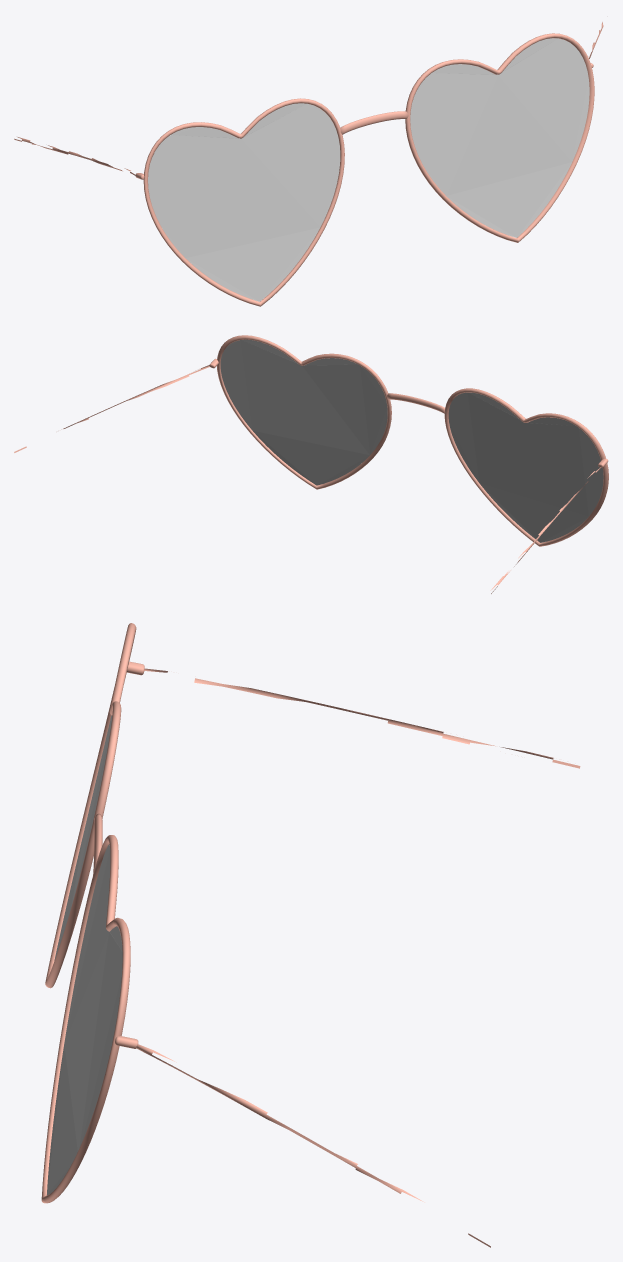
The model's file is heart-shaped_glasses14.glb.
The picture shows the model from 3 angles, top to bottom: view 1: azimuth 30°, elevation 25°; view 2: azimuth 150°, elevation 25°; view 3: azimuth 270°, elevation 25°; orthographic projection. The views are drawn at different scales.
Visible parts, largest first — view 1: Circle.002_3, Glasses_Frame; view 2: Circle.002_3, Glasses_Frame, Temple.R; view 3: Circle.002_3, Glasses_Frame, Temple.L, Temple.R.
Boxes of the visible parts, x1,y1,x2,y2 form: Circle.002_3: [148, 38, 589, 301]; Glasses_Frame: [143, 33, 594, 306]; Circle.002_3: [220, 339, 603, 542]; Glasses_Frame: [217, 335, 608, 546]; Temple.R: [14, 365, 209, 452]; Circle.002_3: [47, 715, 122, 1195]; Glasses_Frame: [41, 623, 136, 1203]; Temple.L: [144, 668, 580, 768]; Temple.R: [136, 1044, 490, 1247].
Bounding box in the file's own units: 6 × 1.82 × 2.79.
